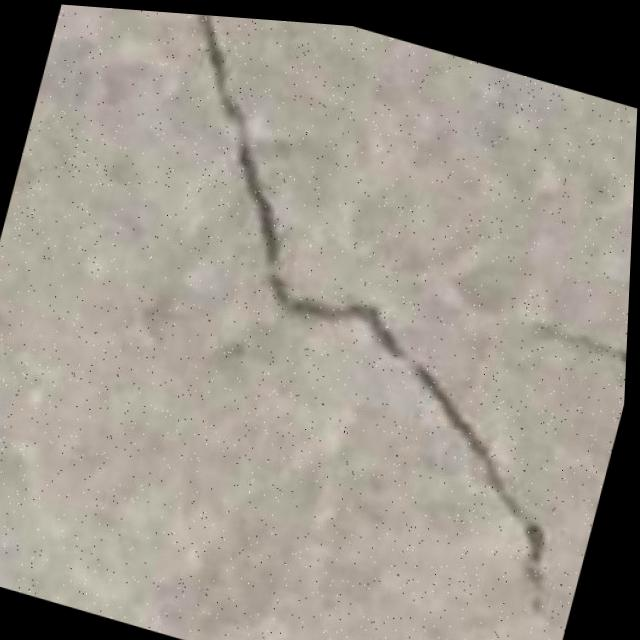Crack: (59, 5, 640, 608)
